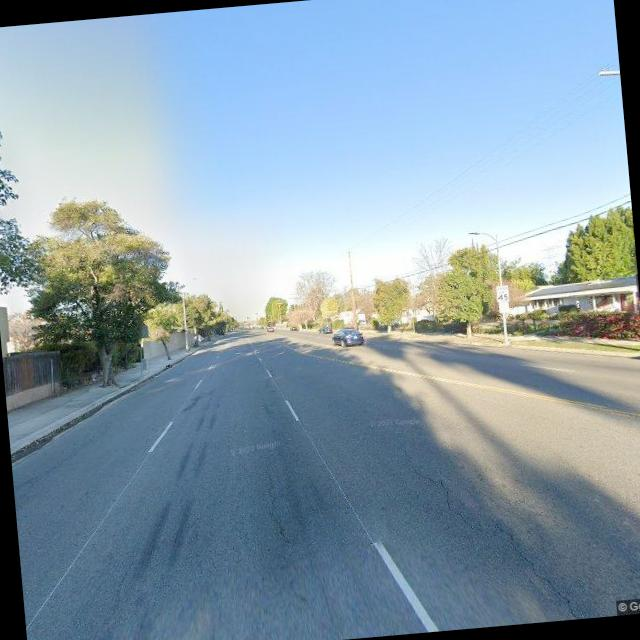pothole: (404, 444, 596, 632), (488, 506, 590, 624), (401, 446, 476, 536), (258, 464, 292, 552)
